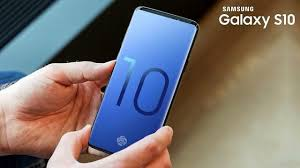samsung: (85, 4, 200, 164)
